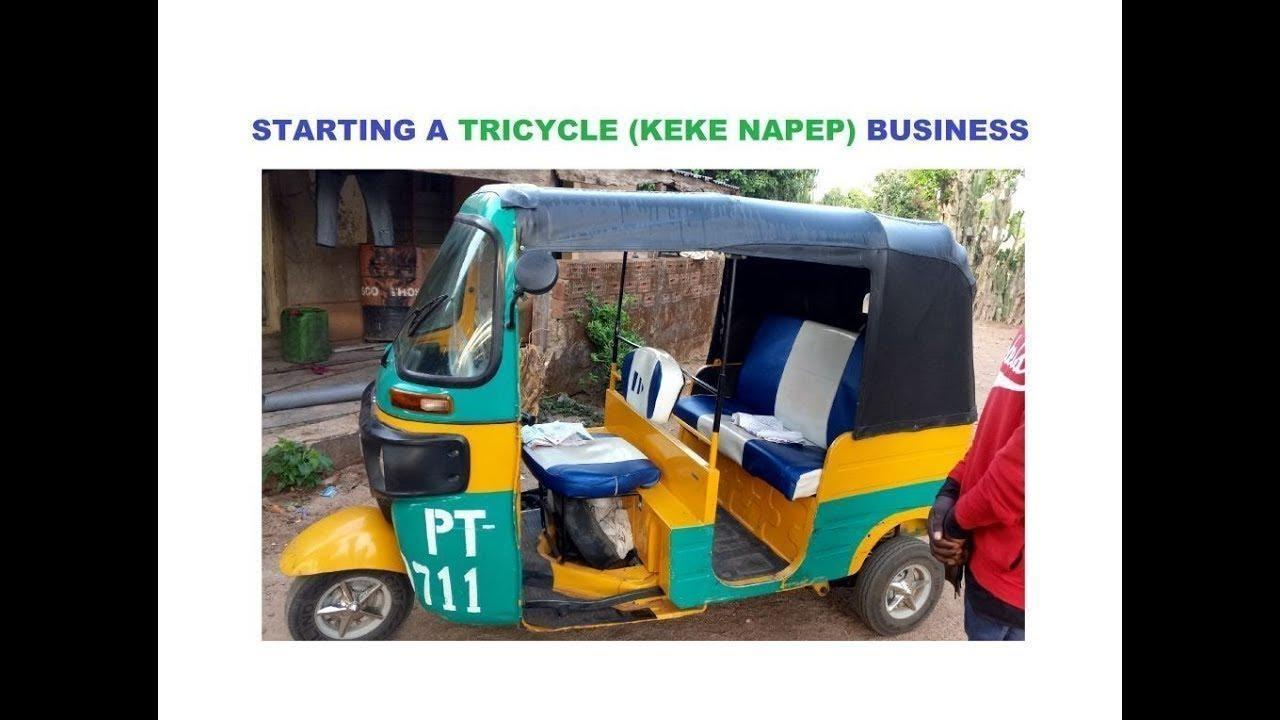keke: (280, 165, 987, 643)
